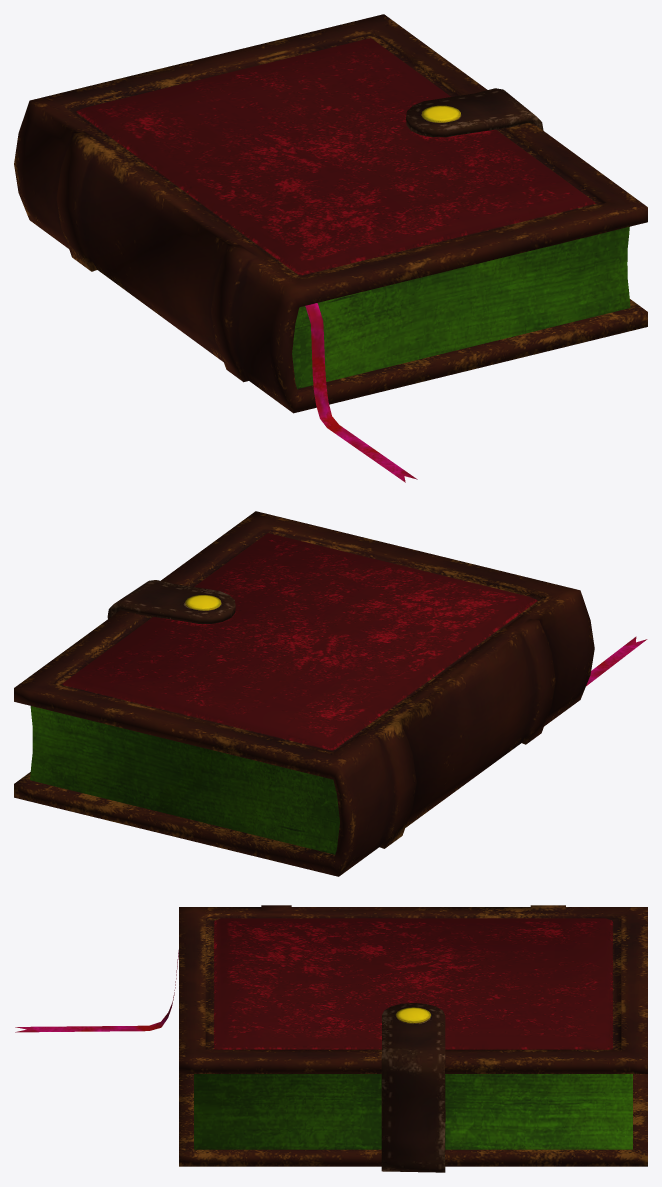
Rendered from livro-couro.glb.
The picture shows the model from 3 angles, top to bottom: view 1: azimuth 30°, elevation 25°; view 2: azimuth 150°, elevation 25°; view 3: azimuth 270°, elevation 25°; orthographic projection. The views are drawn at different scales.
Parts seen in each view (by area): view 1: Book_low; view 2: Book_low; view 3: Book_low.
Part boxes in pixels (x1,y1,x2,y2): Book_low: [14, 14, 647, 482]; Book_low: [14, 511, 647, 876]; Book_low: [15, 905, 647, 1172].
Size of the model in its own units: 3.38 by 1.23 by 5.41.
1 material, 1 textured.
